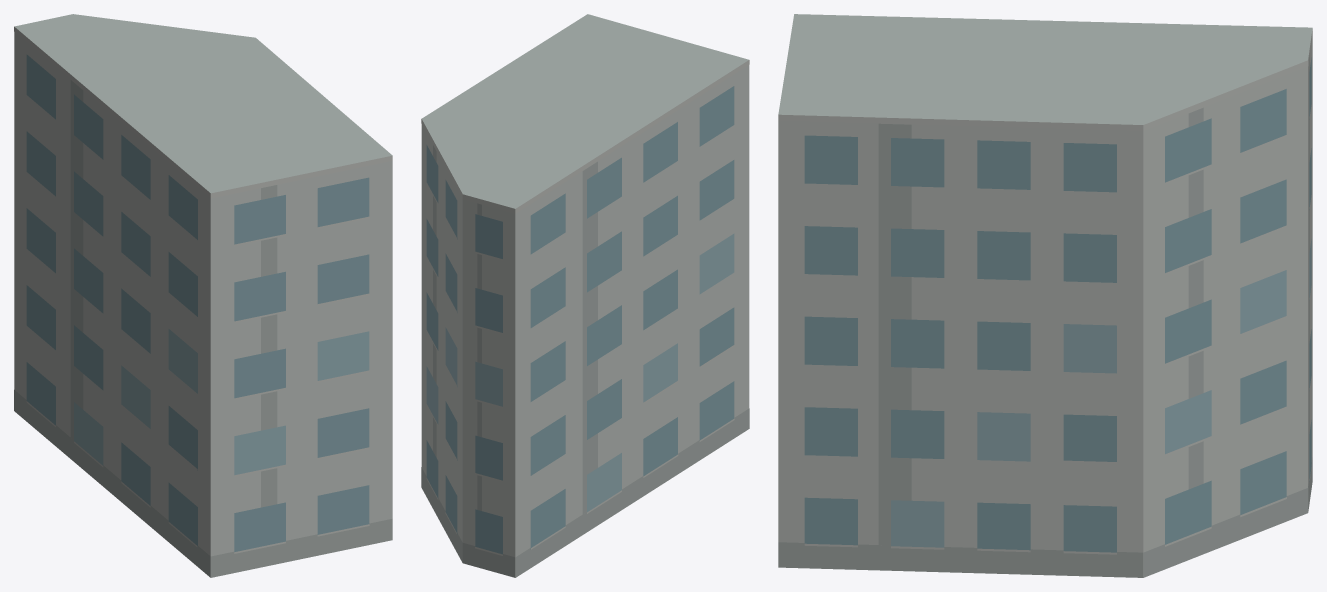
The model's file is survey-upis-32994873.glb.
3 renders of one model, left to right at view 1: azimuth 30°, elevation 25°; view 2: azimuth 150°, elevation 25°; view 3: azimuth 270°, elevation 25°, orthographic. The views are drawn at different scales.
Visible parts, largest first — view 1: survey-upis-32994873.tmp; view 2: survey-upis-32994873.tmp; view 3: survey-upis-32994873.tmp.
Part boxes in pixels (x1,y1,x2,y2): survey-upis-32994873.tmp: [14, 14, 392, 577]; survey-upis-32994873.tmp: [421, 14, 749, 577]; survey-upis-32994873.tmp: [778, 14, 1312, 577].
Size of the model in its own units: 9.37 by 17.8 by 19.05.
